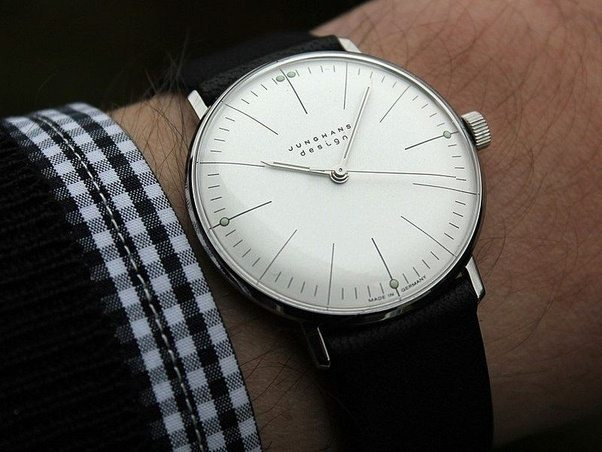clock: (185, 51, 487, 318)
